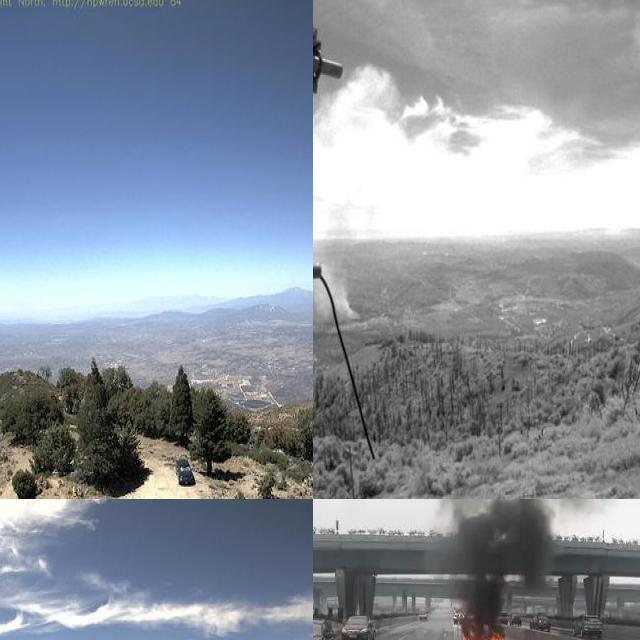fire: (462, 626, 505, 640)
smoke: (358, 499, 640, 624), (313, 213, 367, 325)
